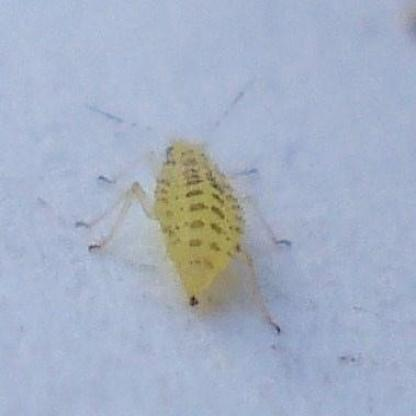aphid: (78, 87, 303, 337)
